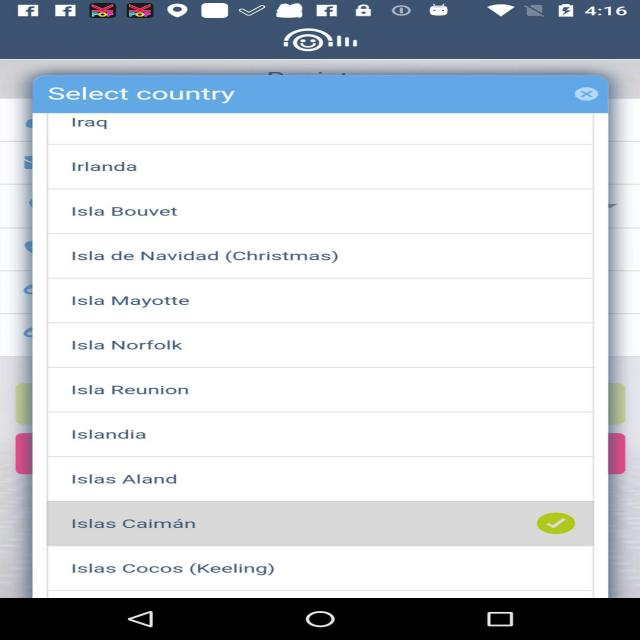button: (44, 277, 590, 328), (43, 500, 594, 550), (43, 144, 590, 194), (42, 323, 592, 372), (46, 408, 593, 456), (48, 189, 587, 237), (44, 551, 600, 597), (51, 455, 596, 501), (50, 234, 587, 278), (46, 368, 590, 410), (44, 112, 588, 148), (552, 82, 607, 111)
icon: (272, 28, 369, 56), (523, 511, 581, 537), (556, 83, 604, 107)
text: (58, 238, 350, 274), (37, 79, 256, 110), (62, 556, 290, 582), (56, 197, 192, 227), (61, 511, 206, 537), (62, 379, 200, 403), (64, 332, 190, 358), (66, 290, 204, 311), (56, 154, 159, 182), (64, 469, 190, 488), (48, 116, 156, 137), (65, 423, 164, 445)
